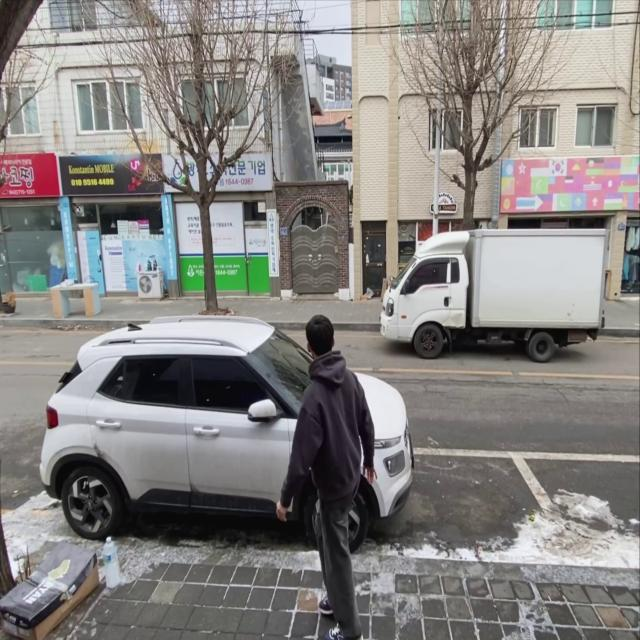bare_hand: (274, 496, 292, 524), (362, 463, 380, 485)
